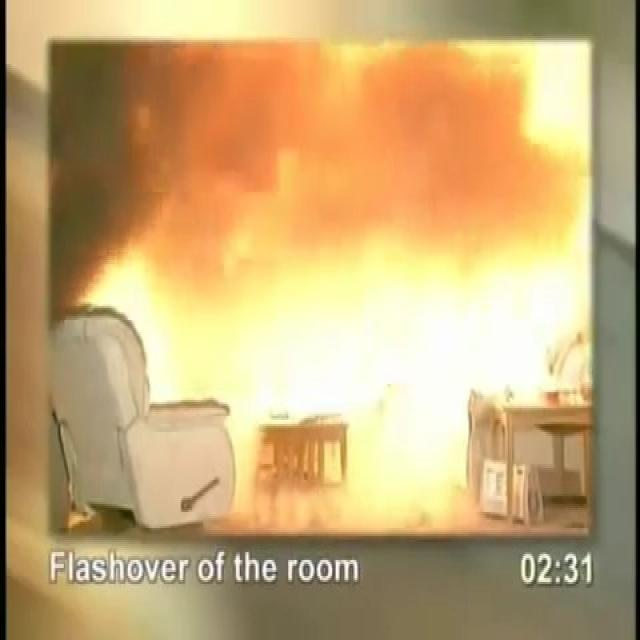Fire: (51, 36, 592, 540)
